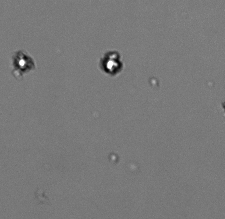Living Cell: (12, 52, 33, 73), (102, 52, 121, 75)
